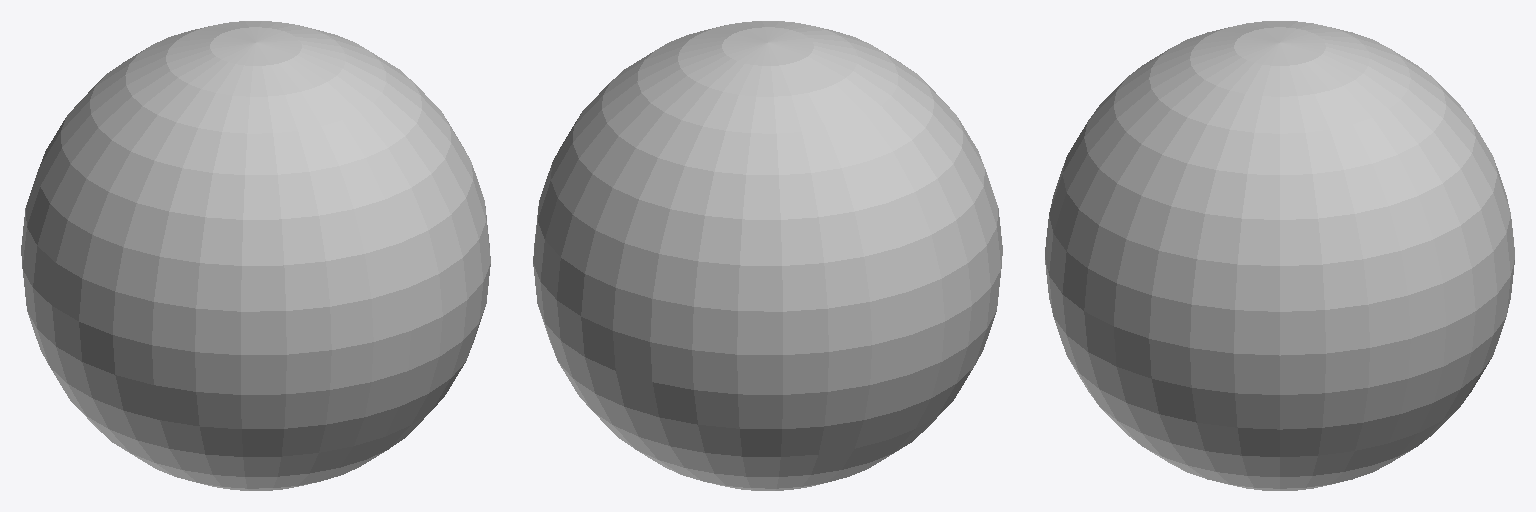
Rendered from blob.obj.
The picture shows the model from 3 angles: view 1: azimuth 30°, elevation 25°; view 2: azimuth 150°, elevation 25°; view 3: azimuth 270°, elevation 25°; orthographic projection.
Parts seen in each view (by area): view 1: Blob; view 2: Blob; view 3: Blob.
Boxes of the visible parts, box(x1,y1,x2,y2) form: Blob: box(21, 21, 490, 490); Blob: box(533, 21, 1002, 490); Blob: box(1045, 21, 1514, 490).
Size of the model in its own units: 2 by 2 by 2.